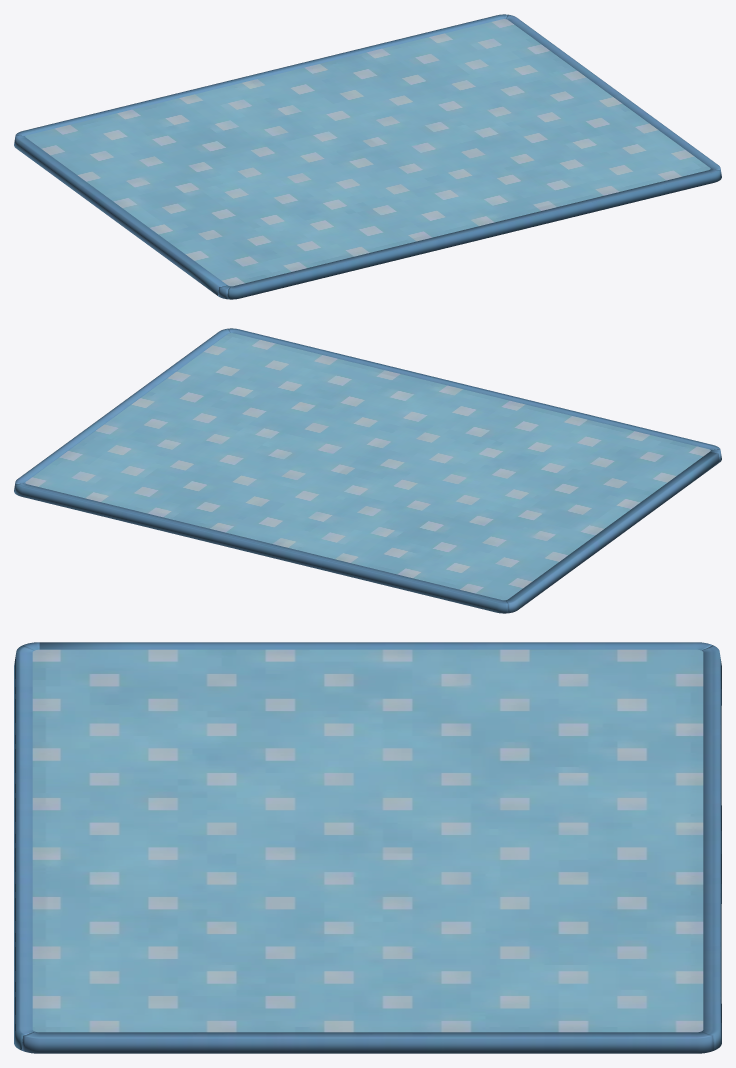
Rendered from bluedotmat.glb.
3 renders of one model, top to bottom at view 1: azimuth 30°, elevation 25°; view 2: azimuth 150°, elevation 25°; view 3: azimuth 270°, elevation 25°, orthographic. The views are drawn at different scales.
Visible parts, largest first — view 1: Edge__mMain.001; view 2: Edge__mMain.001; view 3: Edge__mMain.001.
Part boxes in pixels (x1,y1,x2,y2): Edge__mMain.001: [14, 14, 721, 299]; Edge__mMain.001: [14, 328, 721, 613]; Edge__mMain.001: [14, 642, 721, 1053].
Size of the model in its own units: 0.5925 by 0.0104 by 0.4451.
1 material, 1 textured.
